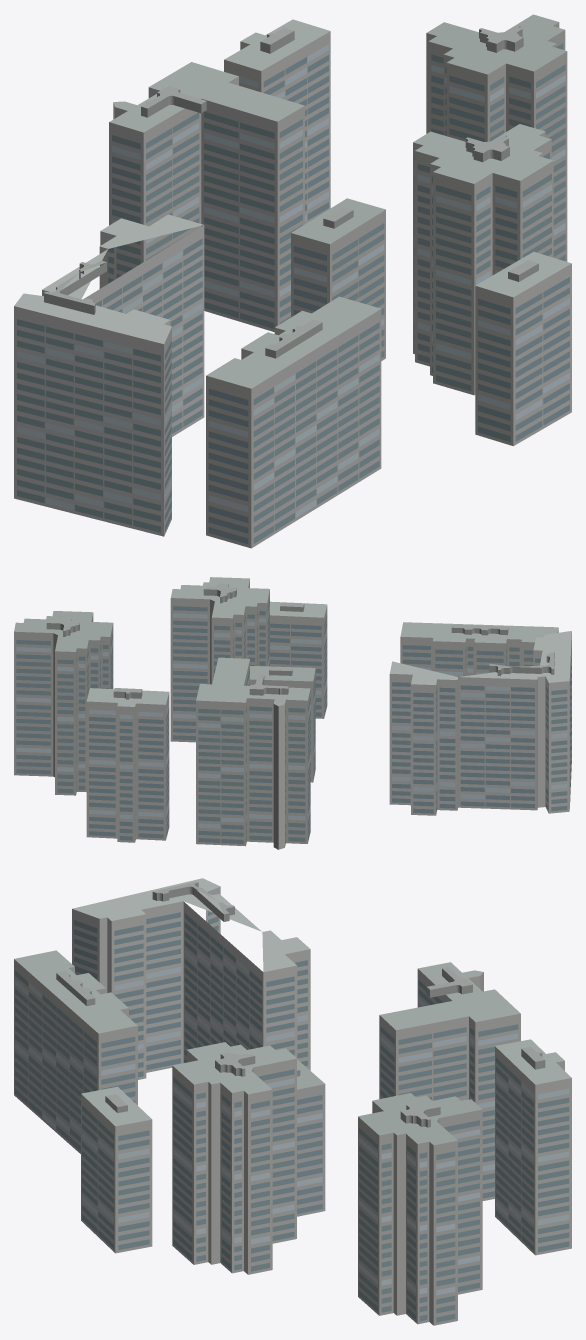
The model's file is apt-a15883401.glb.
3 views of the same model, one above another, from view 1: azimuth 30°, elevation 25°; view 2: azimuth 150°, elevation 25°; view 3: azimuth 270°, elevation 25° (orthographic). The views are drawn at different scales.
Visible parts, largest first — view 1: apt-a15883401; view 2: apt-a15883401; view 3: apt-a15883401.
Part boxes in pixels (left/top/right/bottom): apt-a15883401: left=14, top=14, right=571, bottom=548; apt-a15883401: left=14, top=577, right=571, bottom=849; apt-a15883401: left=14, top=878, right=571, bottom=1325.
Bounding box in the file's own units: 187 × 58 × 156.
